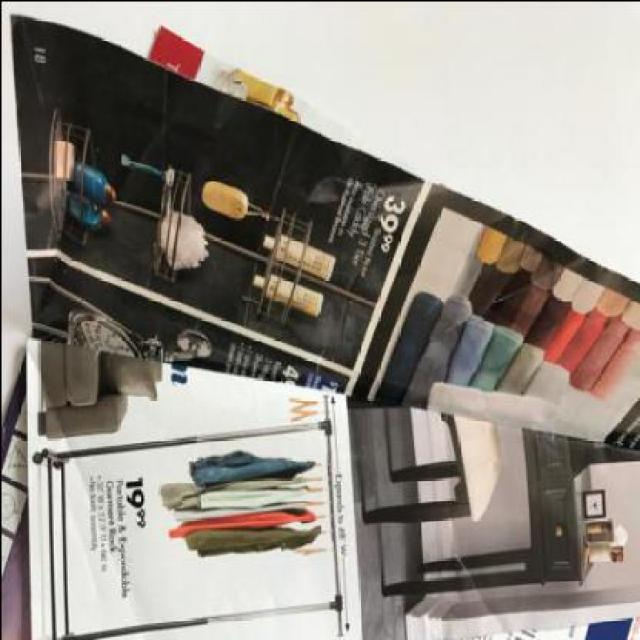paper: (9, 12, 638, 454), (24, 332, 638, 638), (143, 24, 408, 208), (0, 344, 38, 638)
